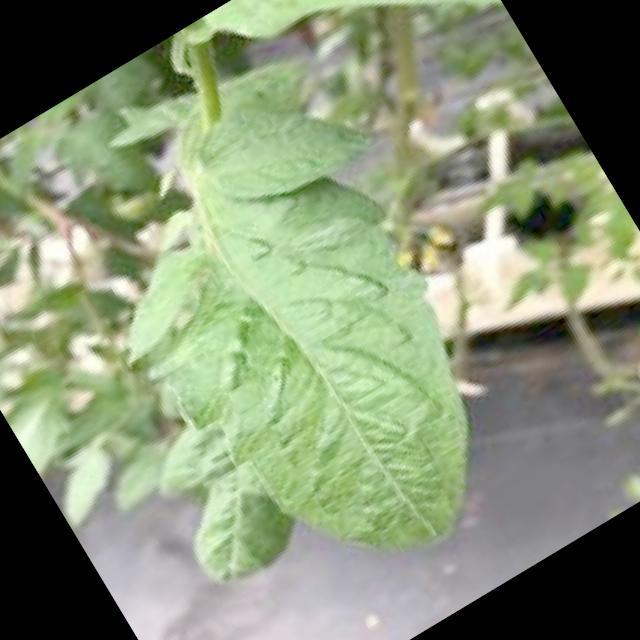Tomato healthy leaf: (39, 54, 570, 637)
